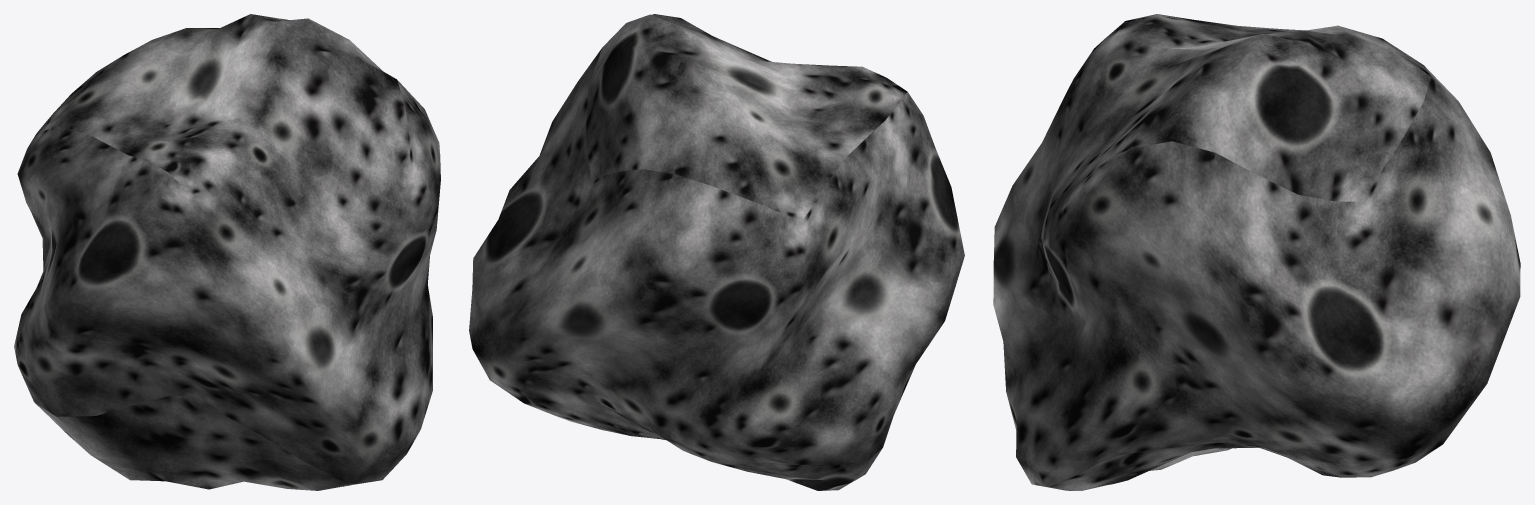
File: Asteroid.FBX
The picture shows the model from 3 angles, left to right: view 1: azimuth 30°, elevation 25°; view 2: azimuth 150°, elevation 25°; view 3: azimuth 270°, elevation 25°; orthographic projection. The views are drawn at different scales.
Parts seen in each view (by area): view 1: Asteroid; view 2: Asteroid; view 3: Asteroid.
Boxes of the visible parts, x1,y1,x2,y2 form: Asteroid: (14, 14, 440, 490); Asteroid: (469, 14, 964, 490); Asteroid: (993, 14, 1520, 490).
Size of the model in its own units: 9.37 by 9.37 by 9.37.
1 material, 1 textured.
